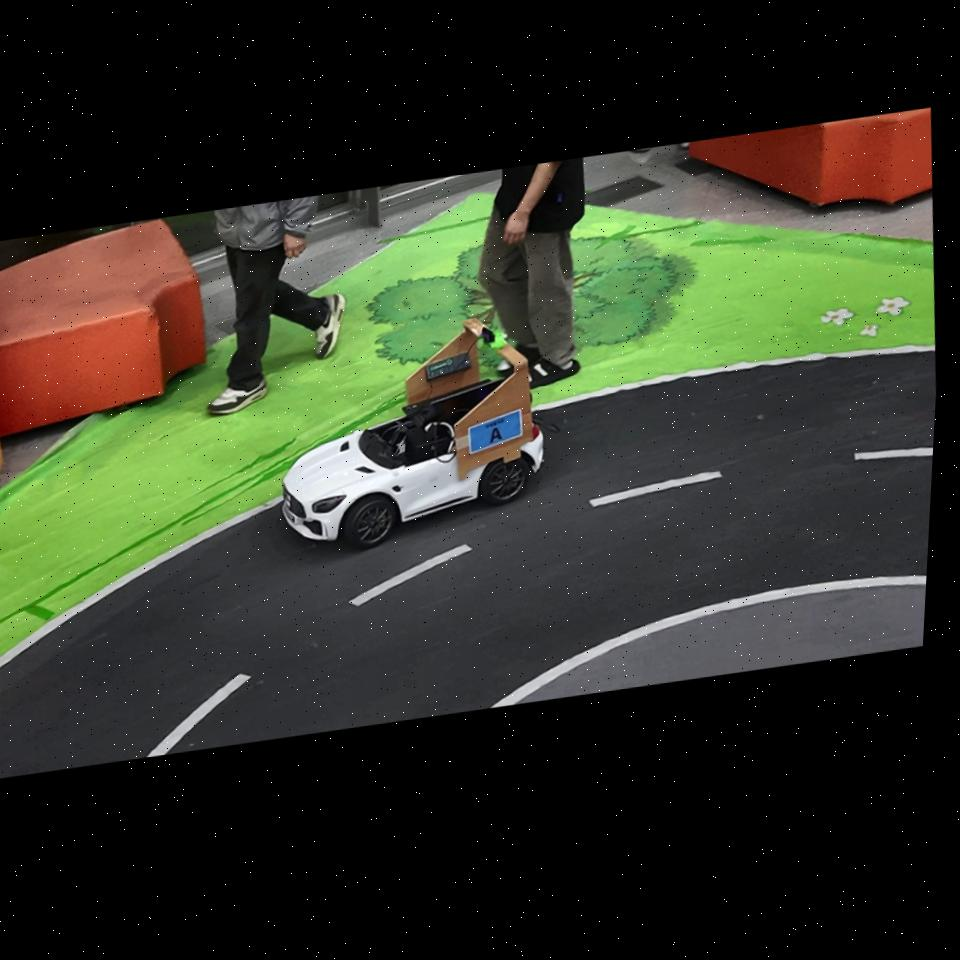broken_line: (147, 674, 252, 757), (349, 544, 472, 606), (588, 471, 723, 507), (854, 448, 933, 460)
